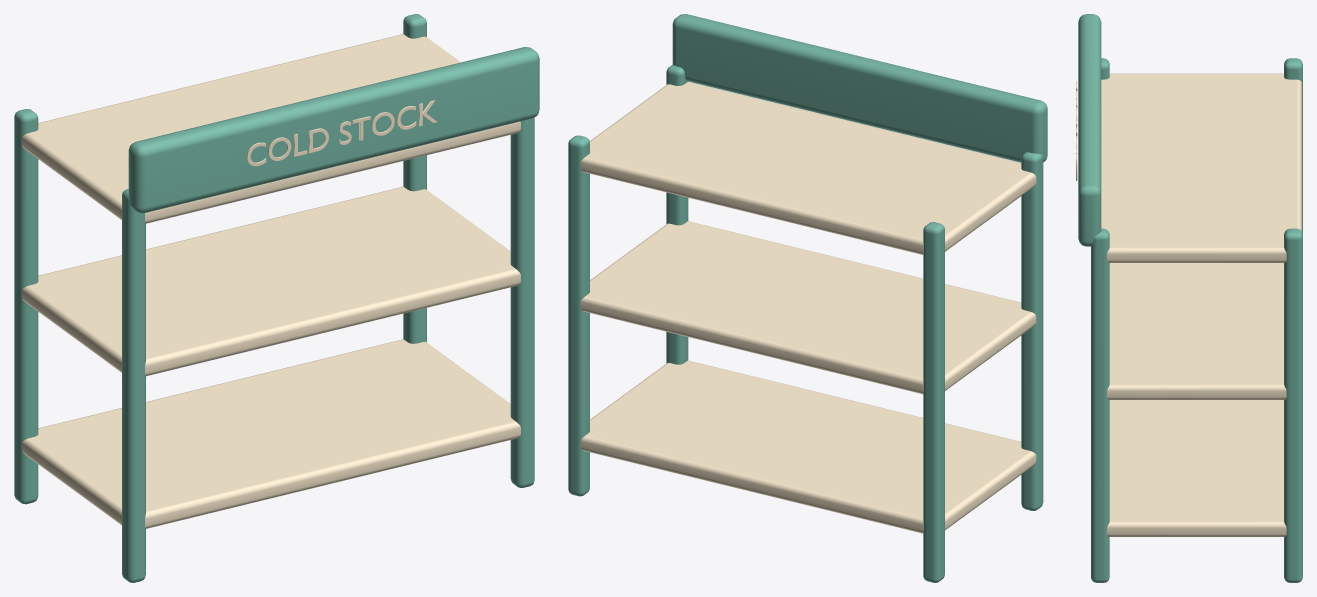
File: 4_slot_cold_rack.fbx
3 views of the same model, side by side, from view 1: azimuth 30°, elevation 25°; view 2: azimuth 150°, elevation 25°; view 3: azimuth 270°, elevation 25° (orthographic). The views are drawn at different scales.
Visible parts, largest first — view 1: Toon_4_slot_cold_rack Rack shelf.004, Toon_4_slot_cold_rack Rack shelf.003, Toon_4_slot_cold_rack Rack header.001, Toon_4_slot_cold_rack Rack shelf.005, Toon_4_slot_cold_rack Rack upright.004, Toon_4_slot_cold_rack Rack upright.005, Toon_4_slot_cold_rack Rack upright.006, Toon_4_slot_cold_rack Rack upright.007, Rack name.003; view 2: Toon_4_slot_cold_rack Rack shelf.005, Toon_4_slot_cold_rack Rack shelf.003, Toon_4_slot_cold_rack Rack shelf.004, Toon_4_slot_cold_rack Rack header.001, Toon_4_slot_cold_rack Rack upright.005, Toon_4_slot_cold_rack Rack upright.007, Toon_4_slot_cold_rack Rack upright.004, Toon_4_slot_cold_rack Rack upright.006; view 3: Toon_4_slot_cold_rack Rack shelf.005, Toon_4_slot_cold_rack Rack shelf.003, Toon_4_slot_cold_rack Rack shelf.004, Toon_4_slot_cold_rack Rack upright.007, Toon_4_slot_cold_rack Rack upright.006, Toon_4_slot_cold_rack Rack header.001, Toon_4_slot_cold_rack Rack upright.005.
Part boxes in pixels (x1,y1,x2,y2): Toon_4_slot_cold_rack Rack shelf.004: (22, 186, 520, 376); Toon_4_slot_cold_rack Rack shelf.003: (22, 339, 520, 528); Toon_4_slot_cold_rack Rack header.001: (128, 47, 539, 213); Toon_4_slot_cold_rack Rack shelf.005: (22, 34, 520, 223); Toon_4_slot_cold_rack Rack upright.004: (122, 189, 145, 582); Toon_4_slot_cold_rack Rack upright.005: (14, 109, 38, 504); Toon_4_slot_cold_rack Rack upright.006: (510, 117, 534, 487); Toon_4_slot_cold_rack Rack upright.007: (403, 14, 426, 343); Rack name.003: (246, 100, 436, 166); Toon_4_slot_cold_rack Rack shelf.005: (580, 82, 1036, 254); Toon_4_slot_cold_rack Rack shelf.003: (580, 360, 1036, 533); Toon_4_slot_cold_rack Rack shelf.004: (580, 221, 1036, 394); Toon_4_slot_cold_rack Rack header.001: (672, 14, 1047, 162); Toon_4_slot_cold_rack Rack upright.005: (923, 222, 944, 582); Toon_4_slot_cold_rack Rack upright.007: (568, 135, 589, 496); Toon_4_slot_cold_rack Rack upright.004: (1021, 152, 1043, 510); Toon_4_slot_cold_rack Rack upright.006: (666, 64, 688, 364); Toon_4_slot_cold_rack Rack shelf.005: (1101, 73, 1301, 262); Toon_4_slot_cold_rack Rack shelf.003: (1107, 400, 1286, 536); Toon_4_slot_cold_rack Rack shelf.004: (1107, 263, 1286, 399); Toon_4_slot_cold_rack Rack upright.007: (1284, 228, 1302, 582); Toon_4_slot_cold_rack Rack upright.006: (1091, 228, 1109, 582); Toon_4_slot_cold_rack Rack header.001: (1078, 14, 1101, 246); Toon_4_slot_cold_rack Rack upright.005: (1284, 58, 1302, 233).
Size of the model in its own units: 101 by 104 by 54.01.
